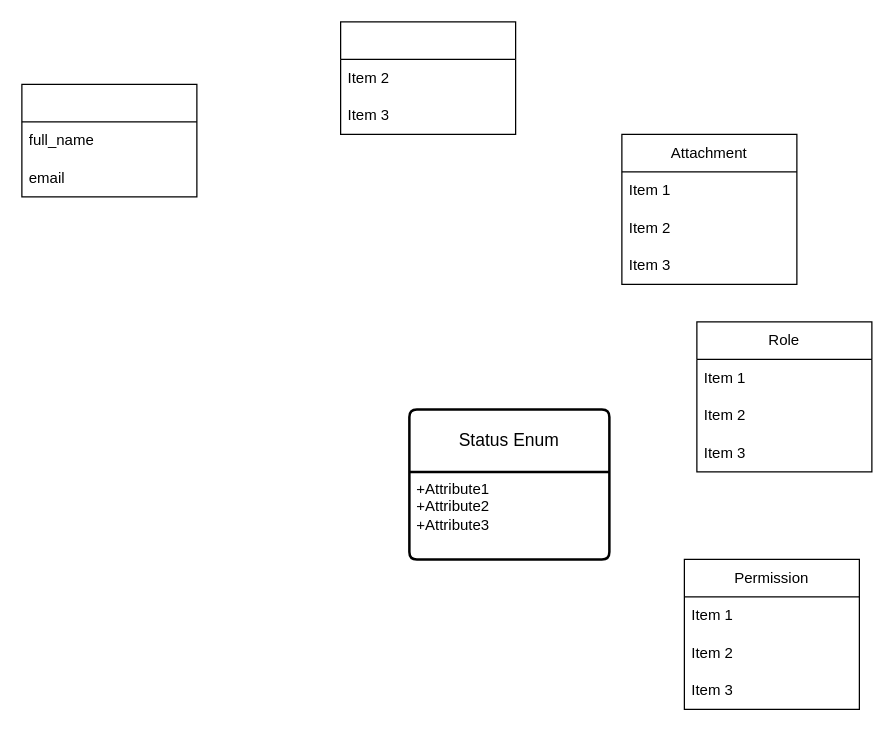
Image size: 894x731. Some labels were removed from this diagram. The box of each missing label's shape, as (x1, y1, x2, y2) in pixels:
Asset: (339, 21, 516, 134)
User: (21, 83, 197, 197)
